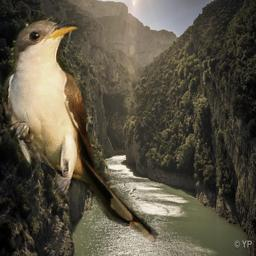Cuckoo: (2, 18, 162, 248)
